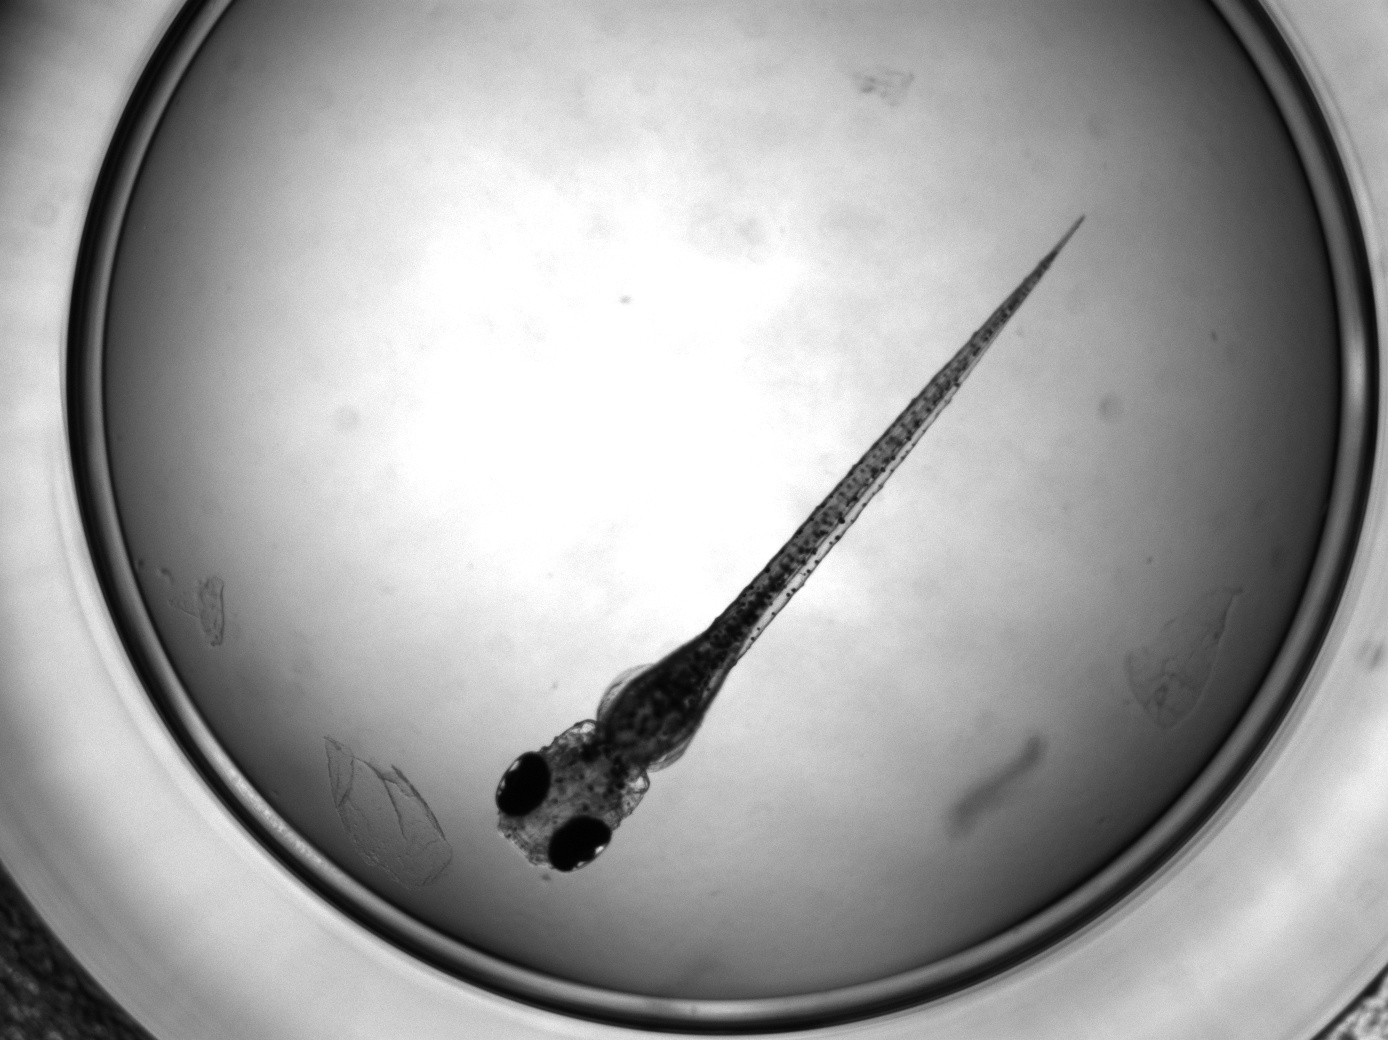debris: (325, 735, 458, 896), (1124, 586, 1242, 730)
embryo: (496, 209, 1089, 874)
eye: (496, 751, 550, 818), (549, 818, 613, 871)
yolksac: (597, 643, 735, 770)
